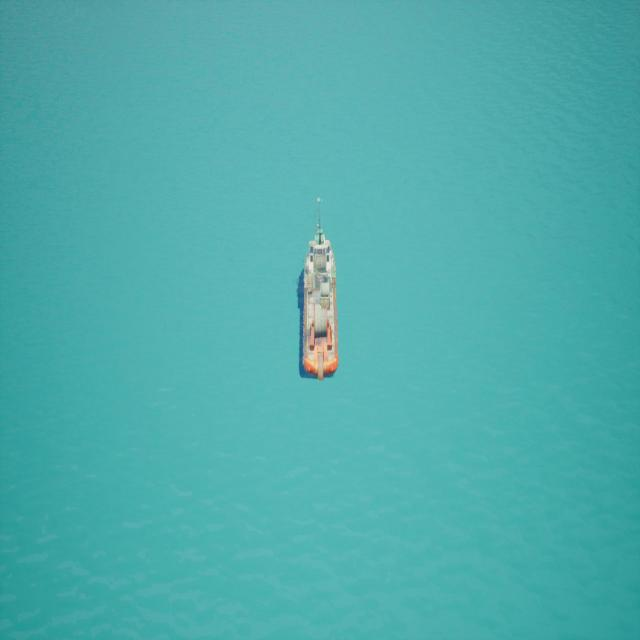tug boat: (291, 192, 347, 403)
